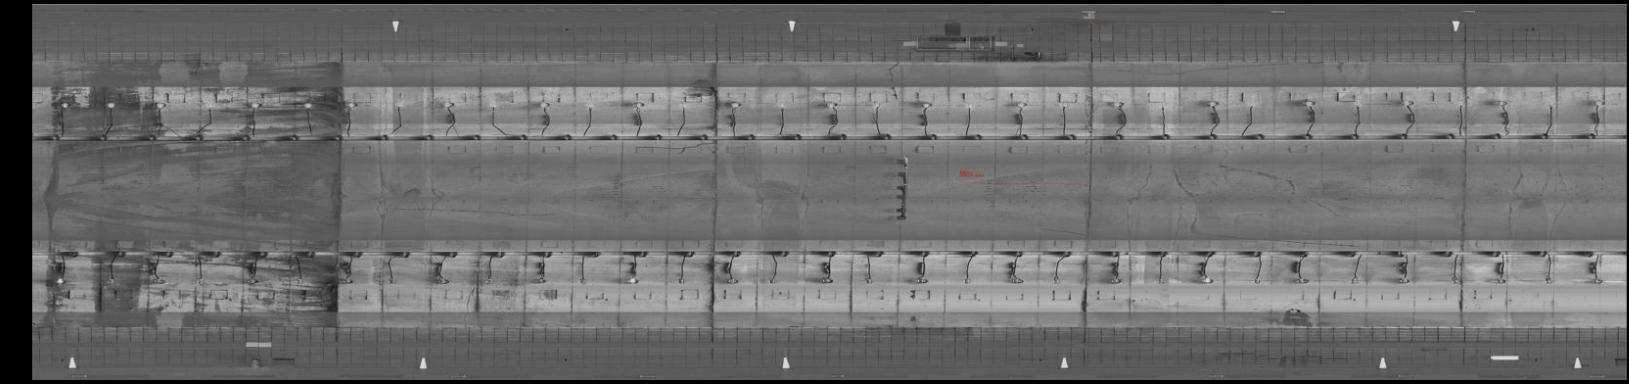light: (151, 95, 172, 112), (1002, 273, 1024, 289), (335, 274, 357, 287), (1401, 95, 1420, 111), (1204, 95, 1223, 111), (1302, 95, 1321, 110), (1154, 98, 1174, 112), (440, 98, 461, 111), (52, 274, 73, 287), (201, 98, 219, 112), (242, 275, 264, 287), (956, 274, 974, 289), (911, 275, 934, 286), (1112, 98, 1132, 110), (1054, 99, 1075, 111), (246, 99, 267, 111), (1196, 274, 1217, 286), (1495, 95, 1513, 110), (102, 97, 119, 111), (1350, 97, 1368, 110), (532, 274, 551, 287), (1013, 98, 1035, 109), (100, 275, 124, 285), (392, 97, 411, 109), (430, 275, 450, 287), (534, 97, 551, 111), (1045, 273, 1062, 287), (148, 274, 168, 285), (192, 275, 211, 287), (858, 275, 877, 287), (1454, 98, 1470, 112), (1448, 273, 1464, 287), (918, 99, 938, 110), (726, 99, 746, 110), (1247, 274, 1266, 285), (673, 274, 690, 287), (1540, 275, 1557, 287), (1588, 275, 1606, 287), (1293, 275, 1312, 286), (1543, 98, 1558, 111), (964, 99, 980, 112), (1246, 98, 1262, 110), (344, 99, 360, 111), (56, 99, 73, 111), (823, 99, 843, 109), (1344, 275, 1364, 285), (1492, 275, 1510, 286), (482, 275, 497, 289), (676, 98, 692, 110), (300, 100, 319, 110), (819, 275, 837, 285), (1592, 98, 1608, 109), (291, 276, 308, 287), (575, 275, 591, 286), (1395, 275, 1412, 286), (381, 277, 401, 286), (1107, 275, 1125, 285), (487, 99, 503, 110), (582, 101, 598, 111), (624, 276, 641, 286), (764, 278, 781, 287), (1152, 276, 1169, 285), (726, 275, 741, 285), (631, 99, 646, 108), (872, 98, 883, 110), (777, 100, 790, 111)
